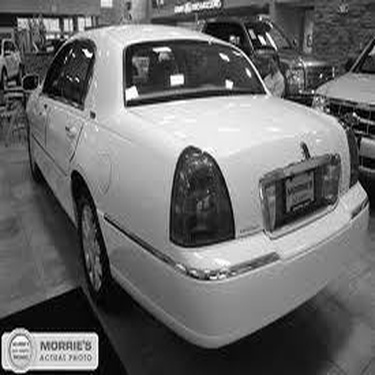car: (11, 15, 368, 347), (140, 1, 359, 87), (187, 3, 300, 101), (300, 30, 375, 160)
